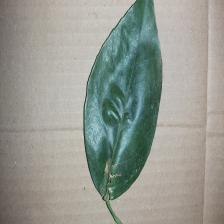healthy: (59, 0, 194, 156)
